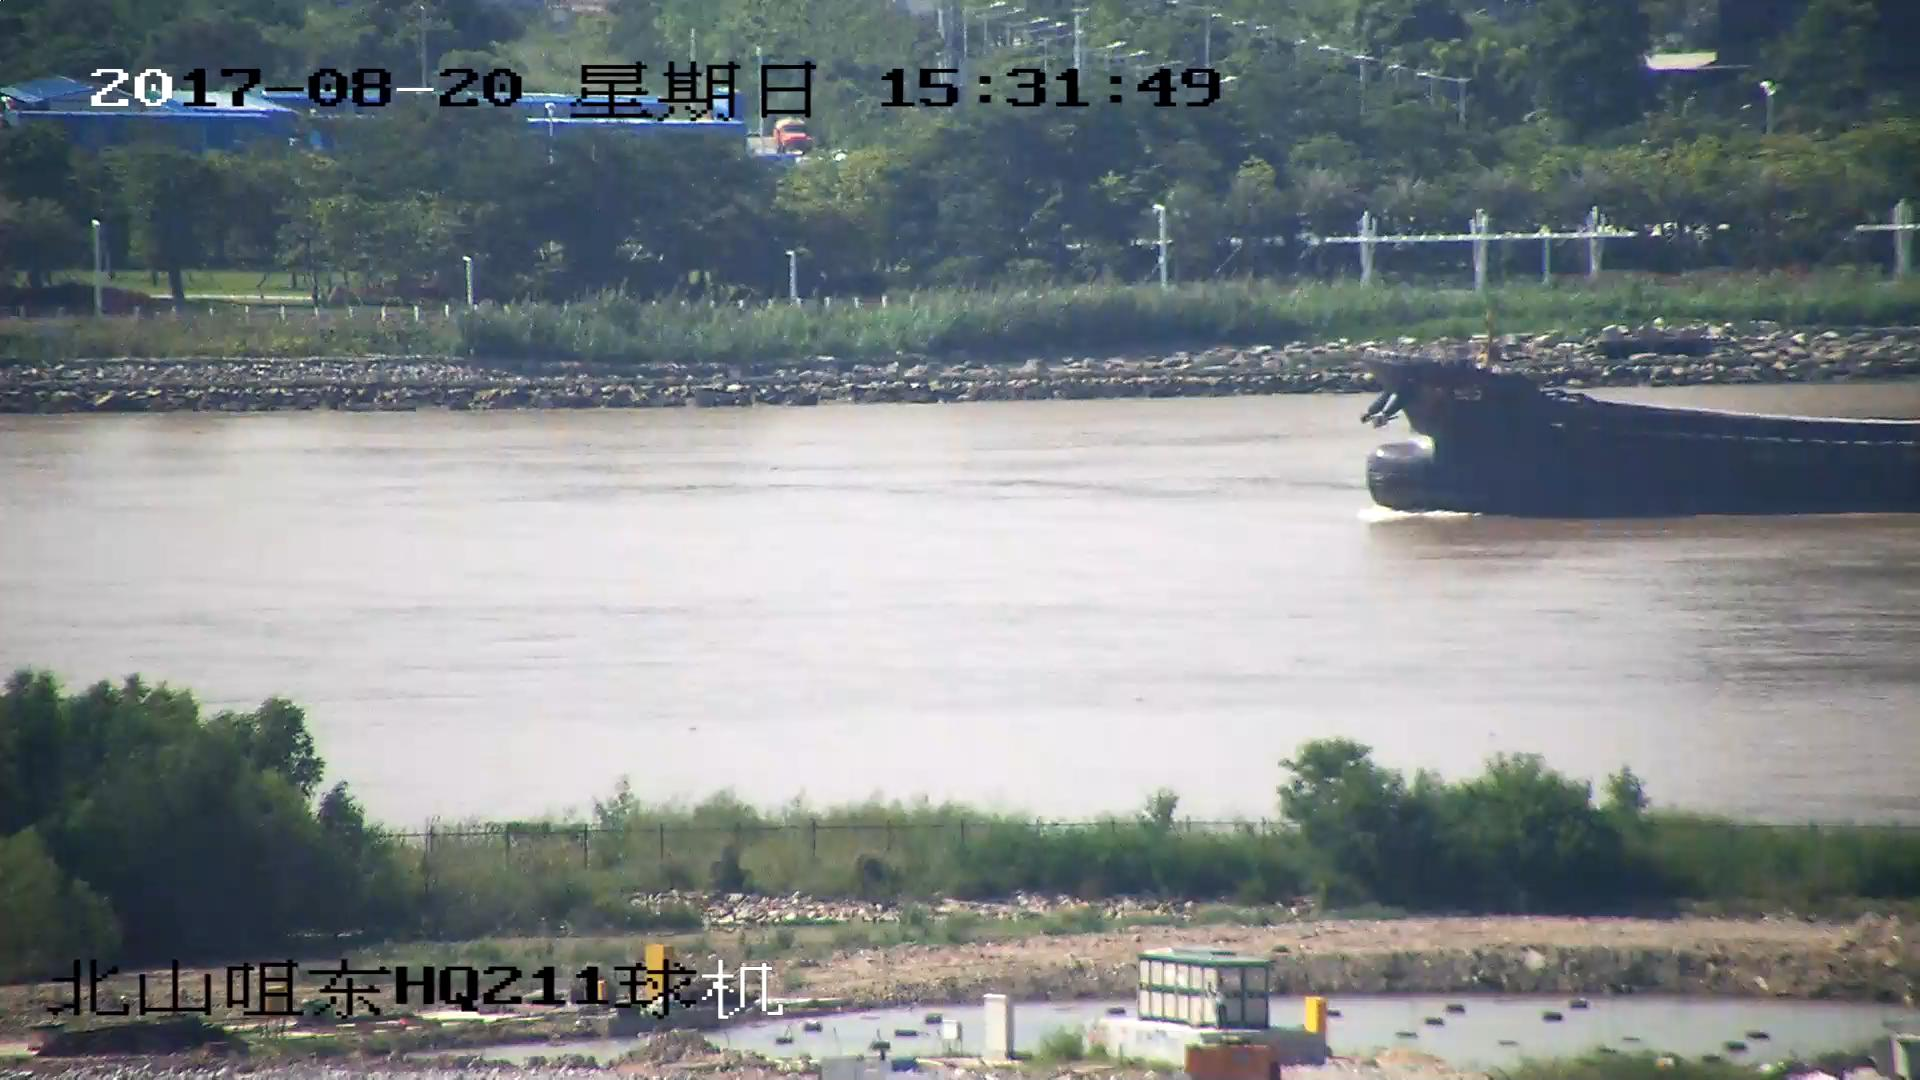general cargo ship: (1363, 352, 1920, 513)
